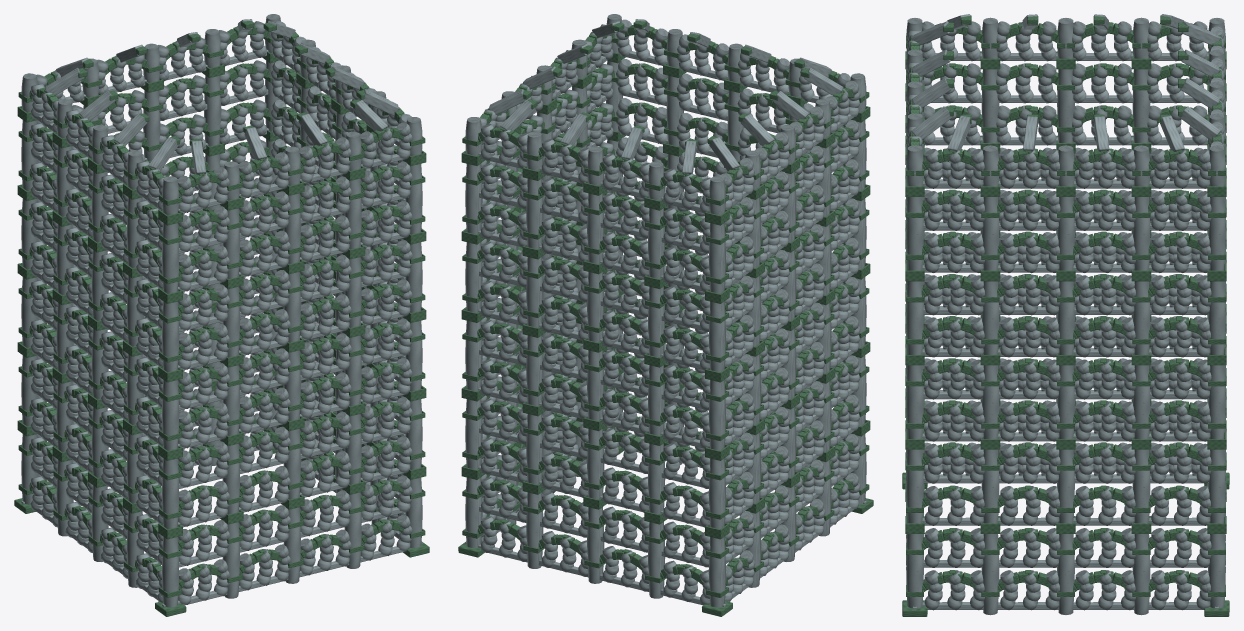
3 renders of one model, left to right at view 1: azimuth 30°, elevation 25°; view 2: azimuth 150°, elevation 25°; view 3: azimuth 270°, elevation 25°, orthographic. The views are drawn at different scales.
Visible parts, largest first — view 1: Tier 1 side 0 post 0, Tier 0 side 0 post 0, Tier 2 side 0 post 0, Tier 3 side 0 post 0, Tier 4 side 0 post 0, Tier 4 side 2 post 1, Tier 4 side 2 post 2, Tier 0 side 0 post 3, Tier 0 side 0 post 2, Tier 0 side 0 post 1, Tier 2 side 1 post 0, Tier 3 side 1 post 0 (+35 smaller); view 2: Tier 0 side 2 post 1, Tier 0 side 3 post 0, Tier 1 side 3 post 0, Tier 2 side 3 post 0, Tier 3 side 3 post 0, Tier 4 side 3 post 0, Tier 0 side 2 post 2, Tier 0 side 2 post 3, Tier 1 side 2 post 0, Tier 2 side 2 post 0, Tier 3 side 2 post 0, Tier 0 side 2 post 0 (+15 smaller); view 3: Tier 2 side 1 post 0, Tier 1 side 1 post 0, Tier 0 side 1 post 3, Tier 0 side 1 post 1, Tier 0 side 1 post 2, Tier 3 side 1 post 0, Tier 4 side 1 post 0, Tier 0 side 1 post 0, Tier 2 side 2 post 0, Tier 2 side 1 post 1, Tier 2 side 1 post 3, Tier 1 side 2 post 0 (+33 smaller).
Boxes of the visible parts, bbox=[...] form: Tier 1 side 0 post 0: bbox=[162, 458, 179, 529]; Tier 0 side 0 post 0: bbox=[162, 537, 179, 607]; Tier 2 side 0 post 0: bbox=[162, 380, 179, 450]; Tier 3 side 0 post 0: bbox=[162, 301, 179, 372]; Tier 4 side 0 post 0: bbox=[162, 223, 179, 293]; Tier 4 side 2 post 1: bbox=[204, 75, 221, 146]; Tier 4 side 2 post 2: bbox=[143, 90, 160, 161]; Tier 0 side 0 post 3: bbox=[344, 492, 361, 568]; Tier 0 side 0 post 2: bbox=[283, 507, 300, 583]; Tier 0 side 0 post 1: bbox=[222, 522, 239, 598]; Tier 2 side 1 post 0: bbox=[405, 320, 422, 391]; Tier 3 side 1 post 0: bbox=[405, 242, 422, 312]; Tier 0 side 2 post 1: bbox=[526, 492, 543, 568]; Tier 0 side 3 post 0: bbox=[708, 537, 725, 607]; Tier 1 side 3 post 0: bbox=[708, 458, 725, 529]; Tier 2 side 3 post 0: bbox=[708, 380, 725, 450]; Tier 3 side 3 post 0: bbox=[708, 301, 725, 372]; Tier 4 side 3 post 0: bbox=[708, 223, 725, 293]; Tier 0 side 2 post 2: bbox=[587, 507, 604, 583]; Tier 0 side 2 post 3: bbox=[648, 522, 665, 598]; Tier 1 side 2 post 0: bbox=[465, 399, 482, 469]; Tier 2 side 2 post 0: bbox=[465, 320, 482, 391]; Tier 3 side 2 post 0: bbox=[465, 242, 482, 312]; Tier 0 side 2 post 0: bbox=[465, 477, 482, 547]; Tier 2 side 1 post 0: bbox=[906, 365, 923, 439]; Tier 1 side 1 post 0: bbox=[906, 449, 923, 523]; Tier 0 side 1 post 3: bbox=[1132, 534, 1150, 615]; Tier 0 side 1 post 1: bbox=[981, 534, 999, 615]; Tier 0 side 1 post 2: bbox=[1057, 534, 1074, 614]; Tier 3 side 1 post 0: bbox=[906, 281, 923, 354]; Tier 4 side 1 post 0: bbox=[906, 197, 923, 270]; Tier 0 side 1 post 0: bbox=[906, 534, 923, 608]; Tier 2 side 2 post 0: bbox=[1208, 365, 1225, 439]; Tier 2 side 1 post 1: bbox=[981, 365, 999, 439]; Tier 2 side 1 post 3: bbox=[1132, 365, 1150, 439]; Tier 1 side 2 post 0: bbox=[1208, 449, 1225, 523].
Bounding box in the file's own units: 1.95 × 3.17 × 1.95.
Materials: 2 (2 with a texture image).
